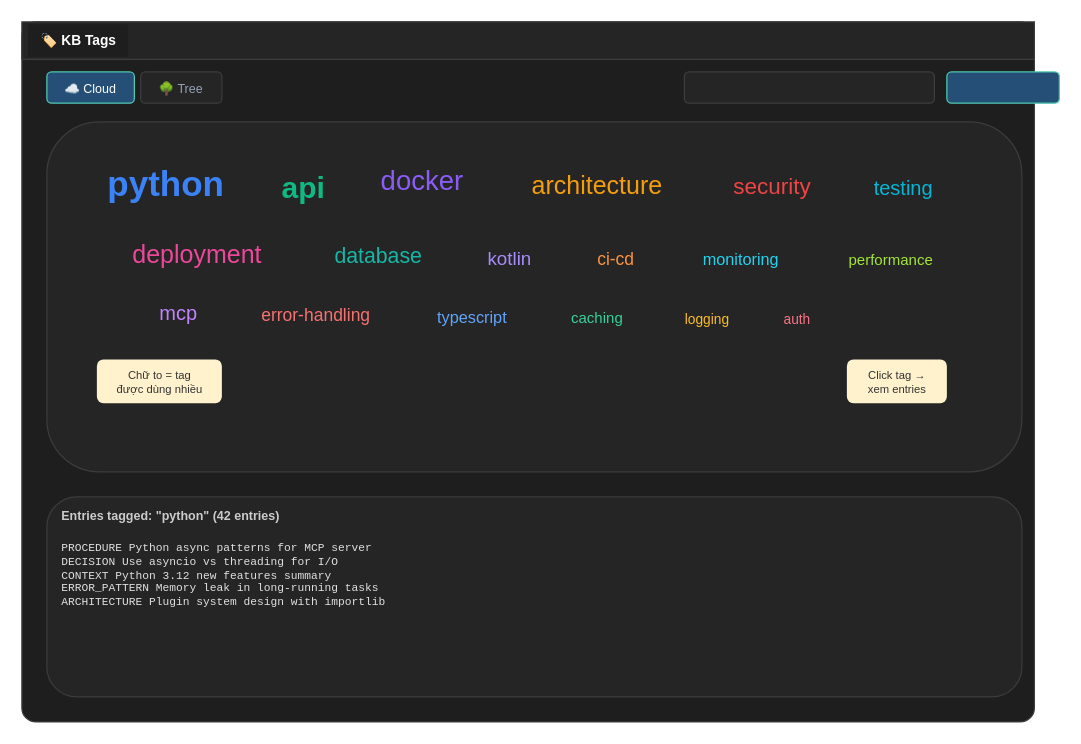
Some shapes in this 1081 by 744 pixel diagram are drawn without their labels. Each missing label, with the centre of its shape:
+ Create Tag: pixel 1002 87
🔍 Search tags...: pixel 808 87
